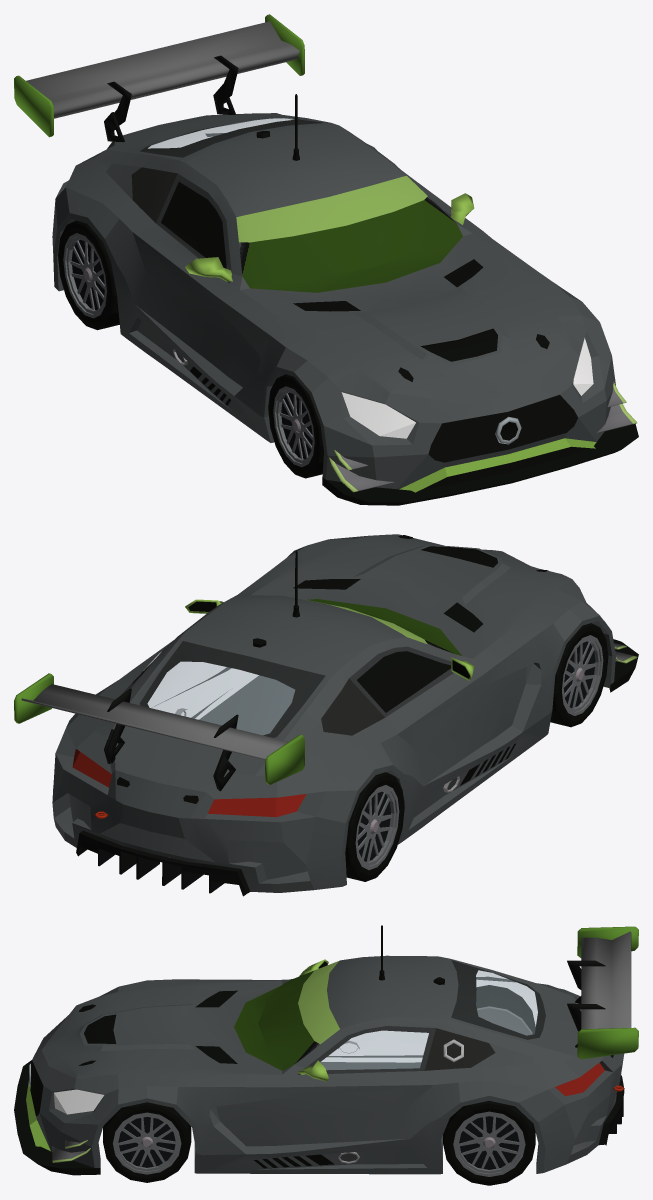
The model's file is car_racer.glb.
3 views of the same model, one above another, from view 1: azimuth 30°, elevation 25°; view 2: azimuth 150°, elevation 25°; view 3: azimuth 270°, elevation 25° (orthographic). The views are drawn at different scales.
Visible parts, largest first — view 1: amg_Gt_body, rrWheel, rFWheel001; view 2: amg_Gt_body, rrWheel, rFWheel001; view 3: amg_Gt_body, lrWheel002, lfWheel001, rrWheel.
Boxes of the visible parts, x1,y1,x2,y2 form: amg_Gt_body: (14,14,638,505); rrWheel: (58,220,119,330); rFWheel001: (268,374,323,478); amg_Gt_body: (14,534,638,896); rrWheel: (345,772,404,881); rFWheel001: (550,623,608,727); amg_Gt_body: (14,925,638,1175); lrWheel002: (443,1101,535,1185); lfWheel001: (103,1102,191,1182); rrWheel: (476,985,535,1035).
Bounding box in the file's own units: 1.93 × 1.53 × 4.3.
2 materials, 1 textured.
